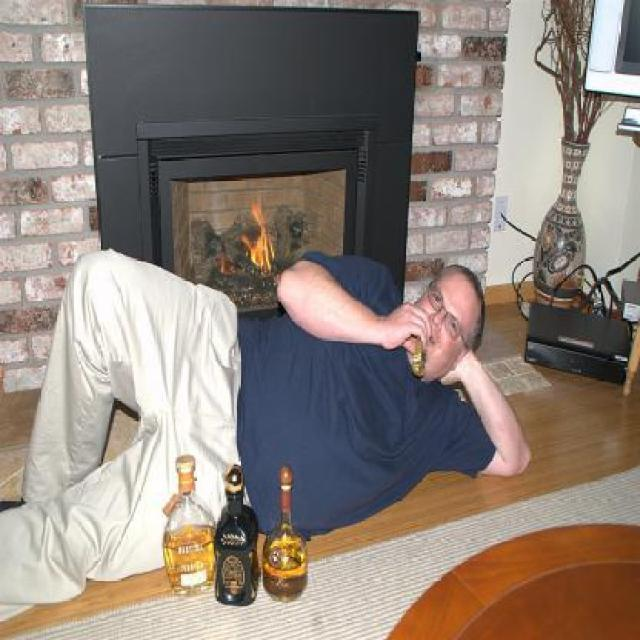Fire: (239, 198, 279, 271), (214, 248, 228, 278)
